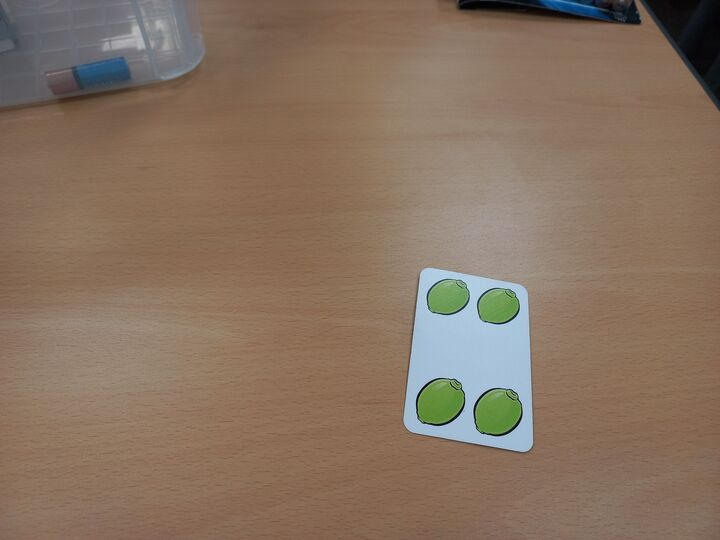lime4: (398, 265, 540, 456)
